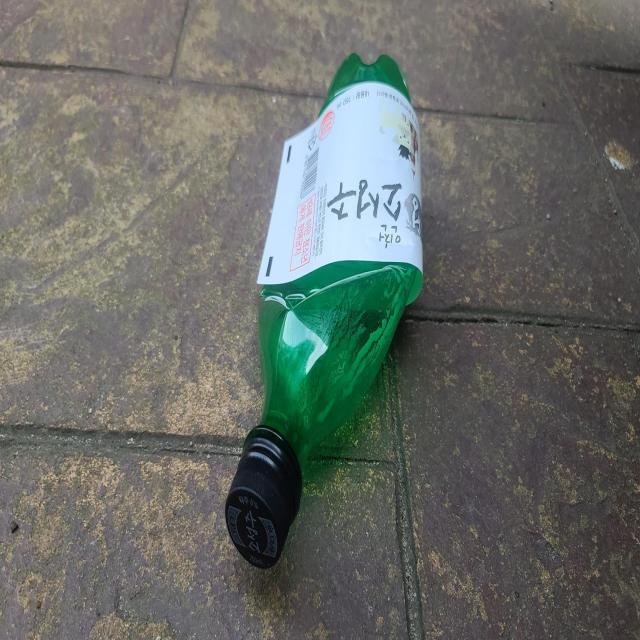plastic: (225, 53, 423, 568)
